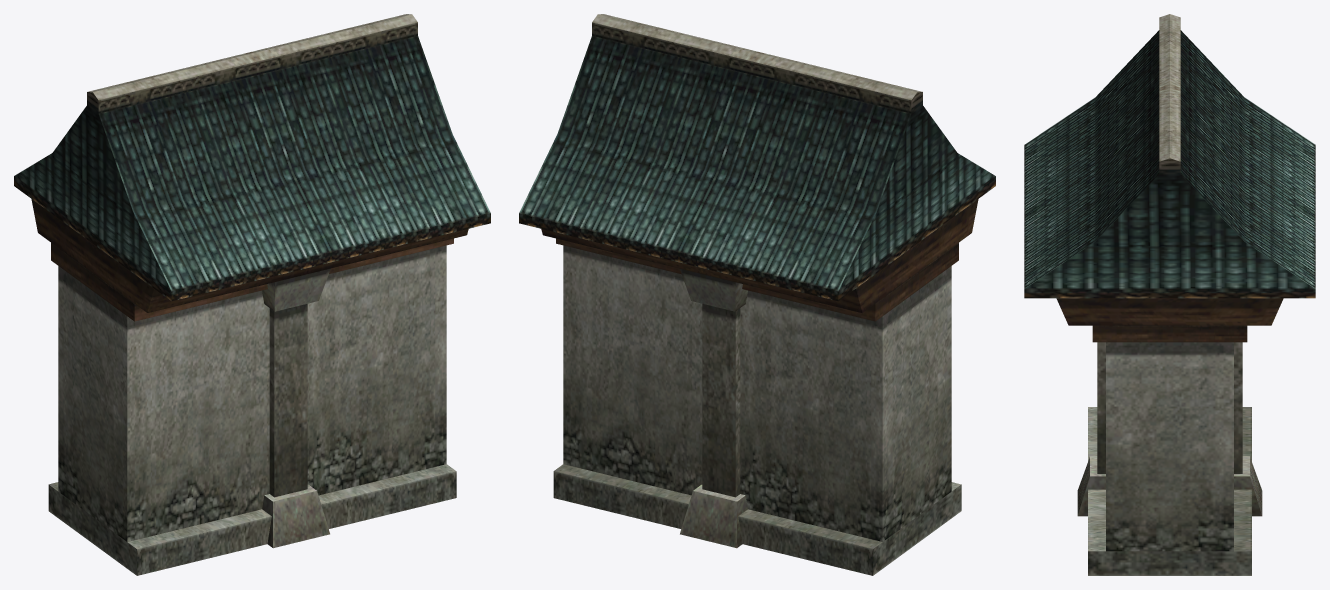
Rendered from gls_a_wall-lin.fbx.
The picture shows the model from 3 angles, left to right: view 1: azimuth 30°, elevation 25°; view 2: azimuth 150°, elevation 25°; view 3: azimuth 270°, elevation 25°; orthographic projection. The views are drawn at different scales.
Parts seen in each view (by area): view 1: gls_A_wall-lin; view 2: gls_A_wall-lin; view 3: gls_A_wall-lin.
Part boxes in pixels (left/top/right/bottom): gls_A_wall-lin: left=14, top=14, right=490, bottom=575; gls_A_wall-lin: left=519, top=14, right=995, bottom=575; gls_A_wall-lin: left=1024, top=14, right=1315, bottom=575.
Size of the model in its own units: 5 by 6.75 by 4.27.
